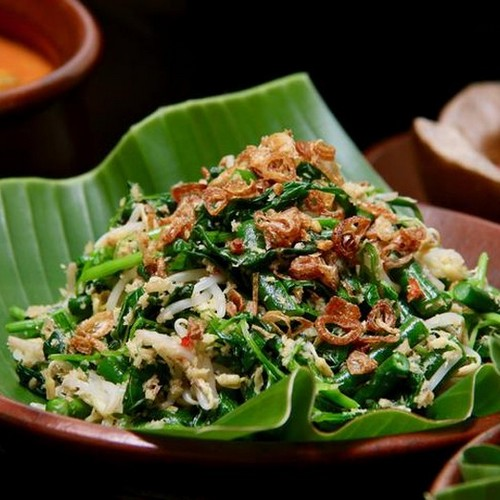jukut urap: (21, 132, 490, 427)
